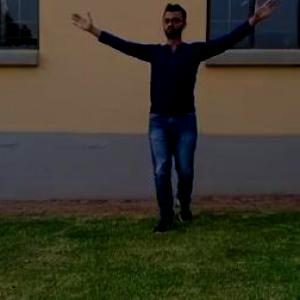takeoff: (80, 6, 271, 223)
